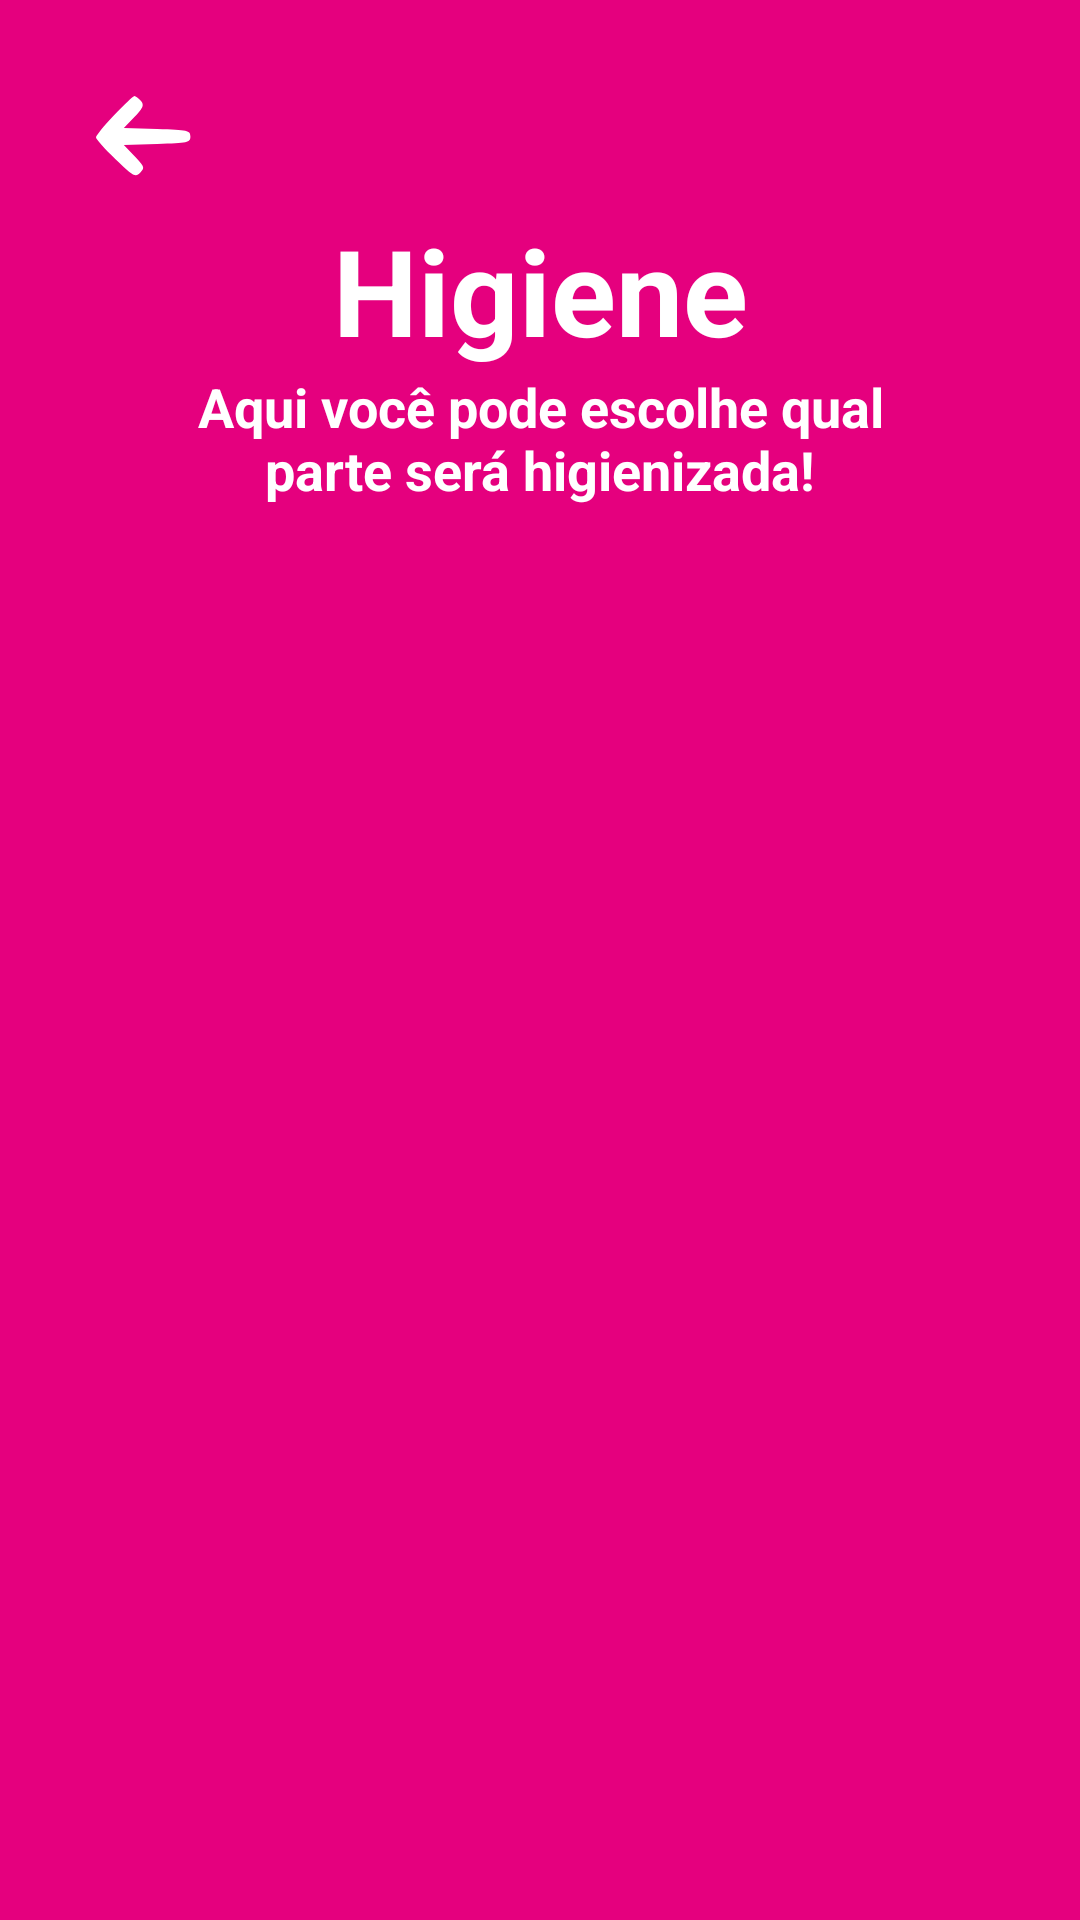

Named icons in this screenshot (1080 x 1920) and their bounding boxes, BBox(x1, y1, x2, y2):
arrow: BBox(96, 96, 191, 176)
